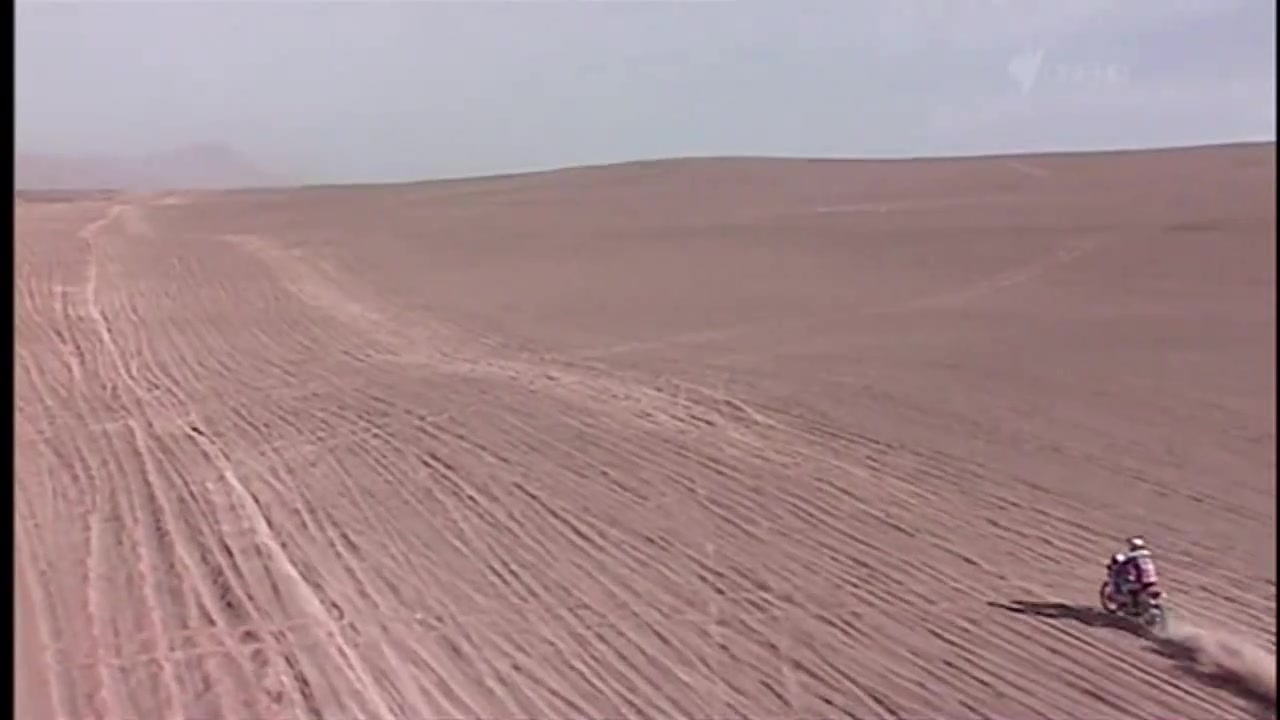motorbike: (1102, 562, 1170, 636)
